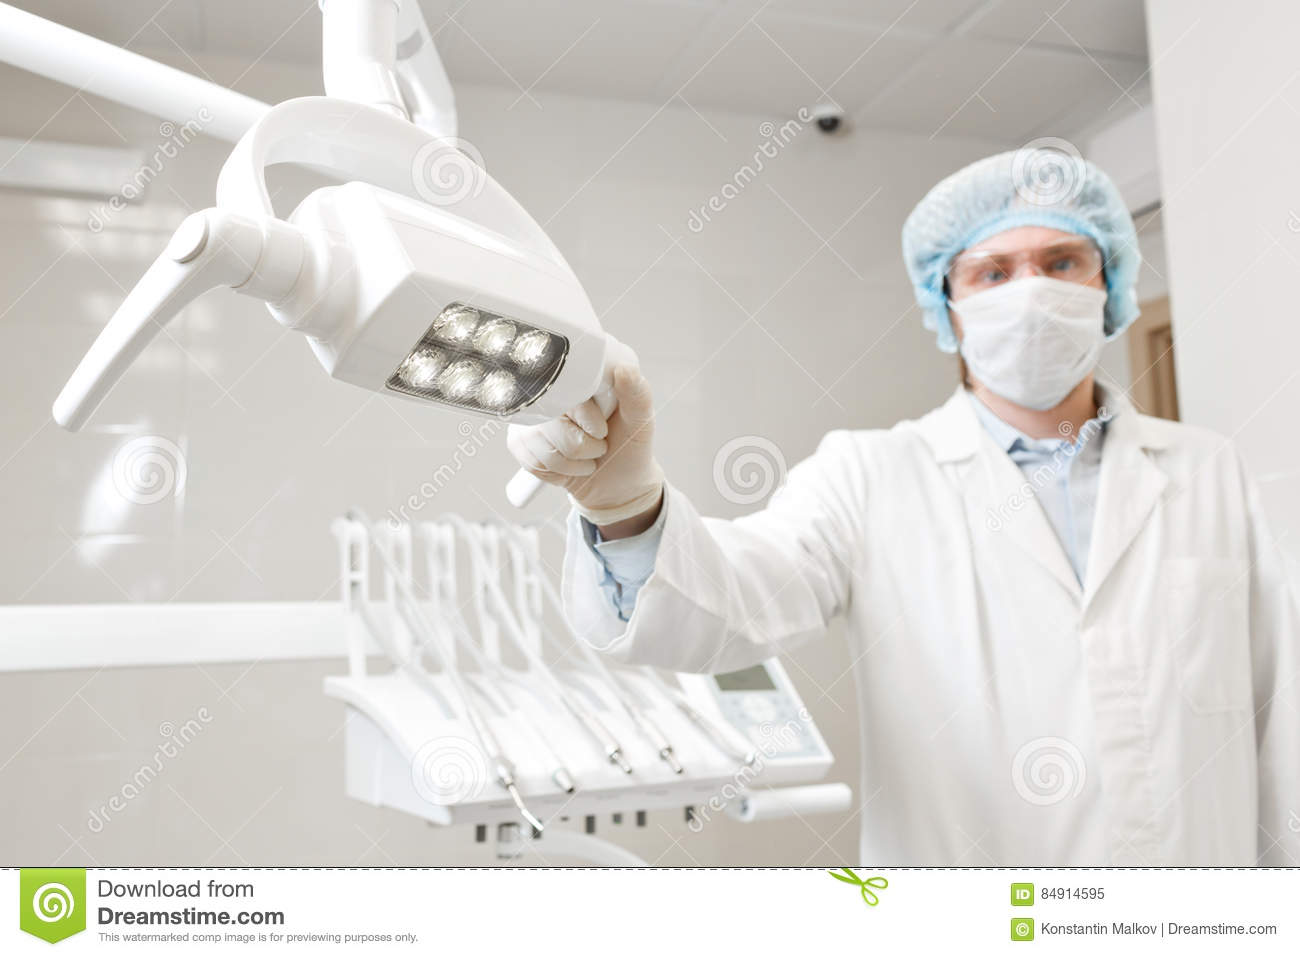mask: (947, 276, 1111, 402)
